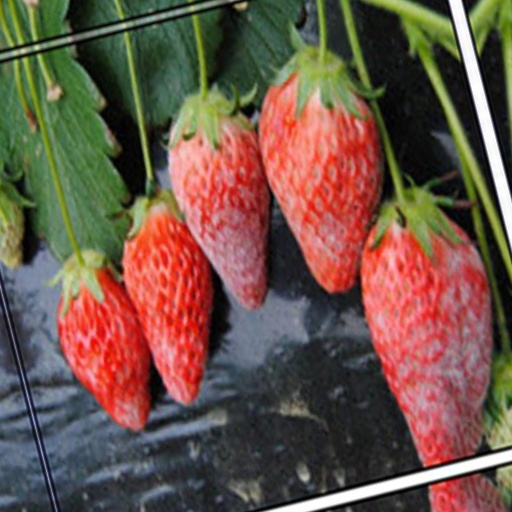Powdery Mildew Fruit: (347, 229, 475, 501), (287, 72, 407, 311), (188, 90, 288, 311)
